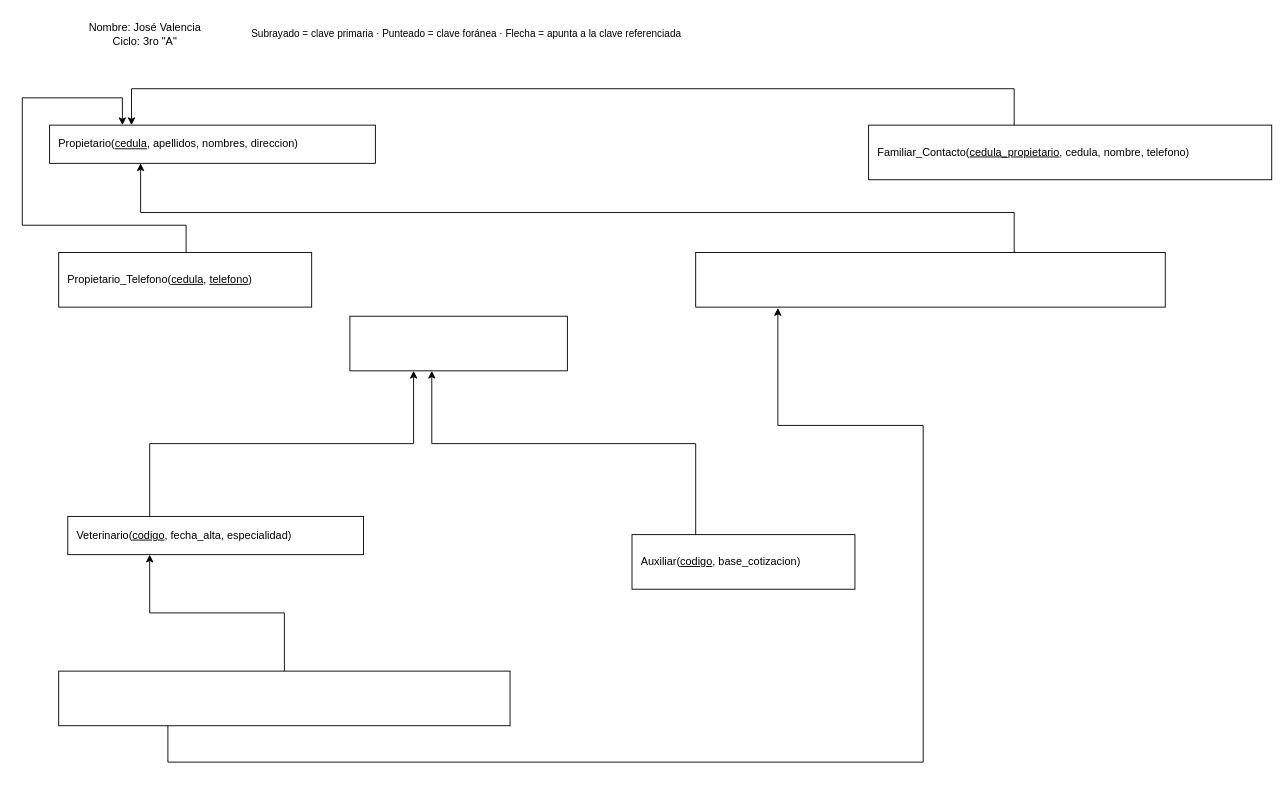
The diagram is 1288 pixels wide and 785 high, and some of its shapes have lost their labels. The shapes that lost their labels are listed below. From the top down, each one's box as (x1, y1, x2, y2) in pixels, then its label:
(695, 252, 1165, 307): Mascota( identificador , nombre, fecha_nacimiento, tipo, cedula_propietario )
(349, 315, 567, 371): Personal( codigo , cedula, nombre)
(58, 670, 510, 726): Consulta( identificador_mascota , codigo_veterinario , fecha , diagnostico)
